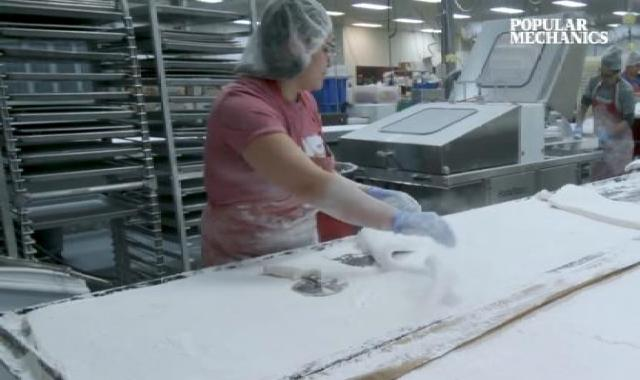hairnet: (247, 3, 346, 85)
